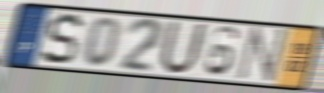0: (82, 15, 123, 70)
2: (118, 17, 166, 75)
6: (203, 24, 241, 80)
N: (234, 25, 291, 86)
S: (39, 12, 85, 67)
U: (156, 18, 210, 78)
